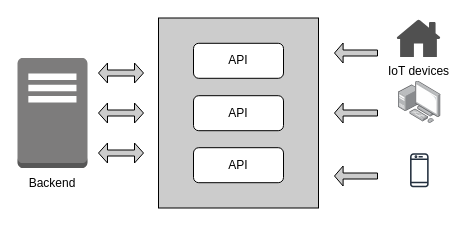
Some shapes in this 467 by 229 pixel diagram are drawn without their labels. Each missing label, with the centre of its shape:
Apps: [419,101]
Mobile: [419,170]
